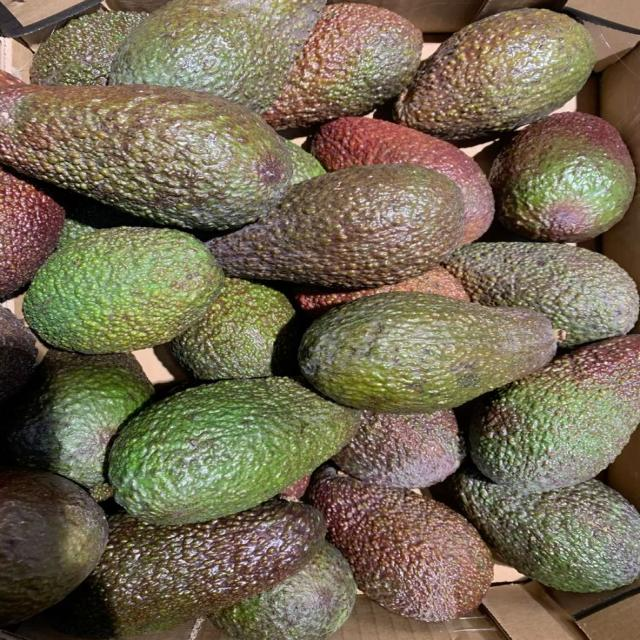avocado: (0, 86, 291, 230), (54, 500, 326, 638), (109, 378, 359, 524), (208, 165, 463, 289), (299, 292, 556, 412), (310, 468, 493, 621), (468, 335, 639, 491), (395, 9, 594, 139), (24, 228, 223, 354), (110, 0, 326, 112), (451, 467, 639, 592), (313, 118, 493, 243), (3, 350, 153, 489), (444, 242, 638, 347), (265, 2, 422, 129), (490, 113, 635, 242), (0, 469, 107, 624), (209, 543, 356, 639), (171, 278, 301, 380), (333, 411, 465, 488), (294, 265, 469, 318), (30, 12, 147, 85), (0, 169, 65, 298), (60, 192, 159, 245), (0, 306, 37, 403), (283, 139, 326, 184), (280, 474, 310, 498), (0, 70, 26, 86)
